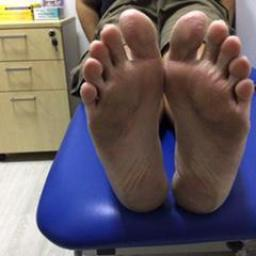Plantar View -Both Feet-: (69, 4, 255, 224)
